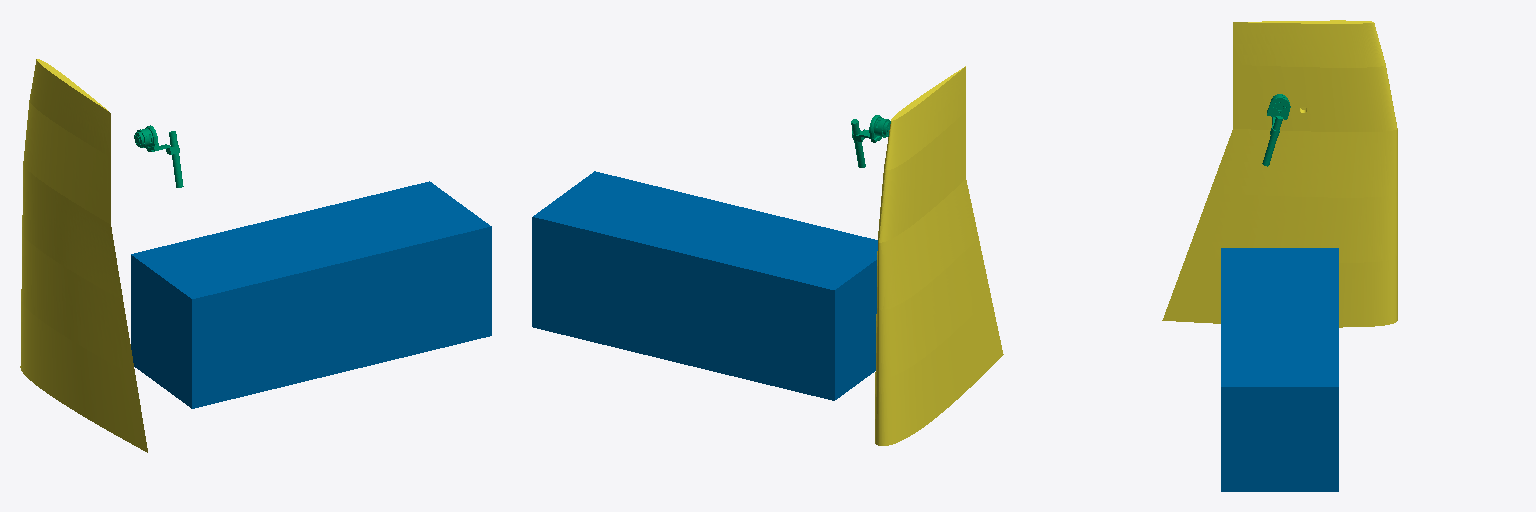
URDF robot description (panda):
<?xml version="1.0" ?>
<!-- =================================================================================== -->
<!-- |    This document was autogenerated by xacro from panda_arm.urdf.xacro           | -->
<!-- |    EDITING THIS FILE BY HAND IS NOT RECOMMENDED                                 | -->
<!-- =================================================================================== -->
<robot name="panda">
  <!--: Minimum safety distance [m] by which the collision volumes are expanded and which is enforced during robot motions -->
  <!-- arm_id: Namespace of the panda arm. Serves to differentiate between arms in case of multiple instances. -->
  <!--  <xacro:include filename="$(find franka_description)/robots/panda_arm.xacro" />-->
  <!--<xacro:include filename="$(find franka_description)/robots/hand.urdf.xacro" />-->
  <!-- fix the robot to the Gazebo world coordinate system  -->
  <link name="world"/>
  <joint name="robot_to_world" type="fixed">
    <parent link="world"/>
    <child link="panda_link0"/>
    <origin rpy="0.0 0.0 3.1415926" xyz="-1.0 0 0.5"/>
    <dynamics damping="1.0"/>
  </joint>
  <!-- link/joint 0 -->
  <link name="panda_link0">
    <inertial>
      <mass value="1.937868"/>
      <origin rpy="0 0 0" xyz="-0.025566 -2.88e-05 0.057332"/>
      <inertia ixx="1" ixy="0" ixz="0" iyy="1" iyz="0" izz="1"/>
    </inertial>
    <visual>
      <origin rpy="0 0 0" xyz="0 0 0"/>
      <geometry>
        <mesh filename="package://franka_description/meshes/visual/link0.dae"/>
      </geometry>
      <material name="">
        <color rgba="1 1 1 1"/>
      </material>
    </visual>
  </link>
  <!-- link/joint 1 -->
  <link name="panda_link1">
    <inertial>
      <origin rpy="0 0 0" xyz="3.875e-03 2.081e-03 -0.1750"/>
      <mass value="4.970684"/>
      <inertia ixx="0.551121276649726" ixy="-9.891702555950000e-05" ixz="0.003401254912500" iyy="0.554308164573063" iyz="0.017358801154300" izz="0.009020836222789"/>
    </inertial>
    <visual>
      <origin rpy="0 0 0" xyz="0 0 0"/>
      <geometry>
        <mesh filename="package://franka_description/meshes/visual/link1.dae"/>
      </geometry>
      <material name="">
        <color rgba="1 1 1 1"/>
      </material>
    </visual>
  </link>
  <joint name="panda_joint1" type="revolute">
    <safety_controller k_position="100.0" k_velocity="40.0" soft_lower_limit="-2.8973" soft_upper_limit="2.8973"/>
    <origin rpy="0 0 0" xyz="0 0 0.333"/>
    <parent link="panda_link0"/>
    <child link="panda_link1"/>
    <axis xyz="0 0 1"/>
    <limit effort="87" lower="-2.8973" upper="2.8973" velocity="2.1750"/>
    <dynamics damping="1.0"/>
  </joint>
  <!-- link/joint 2 -->
  <link name="panda_link2">
    <inertial>
      <origin rpy="0 0 0" xyz="-3.141e-03 -2.872e-02 3.495e-03"/>
      <mass value="0.646926"/>
      <inertia ixx="0.007420488375978" ixy="-0.003866641116064" ixz="0.010246898178992" iyy="0.028095715287805" iyz="6.390638970536000e-04" izz="0.025455008098310"/>
    </inertial>
    <visual>
      <origin rpy="0 0 0" xyz="0 0 0"/>
      <geometry>
        <mesh filename="package://franka_description/meshes/visual/link2.dae"/>
      </geometry>
      <material name="">
        <color rgba="1 1 1 1"/>
      </material>
    </visual>
  </link>
  <joint name="panda_joint2" type="revolute">
    <safety_controller k_position="100.0" k_velocity="40.0" soft_lower_limit="-1.7628" soft_upper_limit="1.7628"/>
    <origin rpy="-1.5707963267948966 0 0" xyz="0 0 0"/>
    <parent link="panda_link1"/>
    <child link="panda_link2"/>
    <axis xyz="0 0 1"/>
    <limit effort="87" lower="-1.7628" upper="1.7628" velocity="2.1750"/>
    <dynamics damping="1.0"/>
  </joint>
  <!-- link/joint 3 -->
  <link name="panda_link3">
    <inertial>
      <origin rpy="0 0 0" xyz="2.7518e-02 3.9252e-02 -6.6502e-02"/>
      <mass value="3.228604"/>
      <inertia ixx="0.017989073985929" ixy="-0.001273666859324" ixz="-0.017304351893438" iyy="0.019431618000394" iyz="-0.021232742878160" izz="0.003410797707480"/>
    </inertial>
    <visual>
      <origin rpy="0 0 0" xyz="0 0 0"/>
      <geometry>
        <mesh filename="package://franka_description/meshes/visual/link3.dae"/>
      </geometry>
      <material name="">
        <color rgba="1 1 1 1"/>
      </material>
    </visual>
  </link>
  <joint name="panda_joint3" type="revolute">
    <safety_controller k_position="100.0" k_velocity="40.0" soft_lower_limit="-2.8973" soft_upper_limit="2.8973"/>
    <origin rpy="1.5707963267948966 0 0" xyz="0 -0.316 0"/>
    <parent link="panda_link2"/>
    <child link="panda_link3"/>
    <axis xyz="0 0 1"/>
    <limit effort="87" lower="-2.8973" upper="2.8973" velocity="2.1750"/>
    <dynamics damping="1.0"/>
  </joint>
  <!-- link/joint 4 -->
  <link name="panda_link4">
    <inertial>
      <origin rpy="0 0 0" xyz="-5.317e-02 1.04419e-01 2.7454e-02"/>
      <mass value="3.587895"/>
      <inertia ixx="-0.015971270250860" ixy="-0.012123843173626" ixz="-0.006569355026276" iyy="0.006704569575549" iyz="0.018926487577369" izz="-0.020940149052540"/>
    </inertial>
    <visual>
      <origin rpy="0 0 0" xyz="0 0 0"/>
      <geometry>
        <mesh filename="package://franka_description/meshes/visual/link4.dae"/>
      </geometry>
      <material name="">
        <color rgba="1 1 1 1"/>
      </material>
    </visual>
  </link>
  <joint name="panda_joint4" type="revolute">
    <safety_controller k_position="100.0" k_velocity="40.0" soft_lower_limit="-3.0718" soft_upper_limit="-0.0698"/>
    <origin rpy="1.5707963267948966 0 0" xyz="0.0825 0 0"/>
    <parent link="panda_link3"/>
    <child link="panda_link4"/>
    <axis xyz="0 0 1"/>
    <limit effort="87" lower="-3.0718" upper="-0.0698" velocity="2.1750"/>
    <dynamics damping="1.0"/>
  </joint>
  <!-- link/joint 5 -->
  <link name="panda_link5">
    <inertial>
      <origin rpy="0 0 0" xyz="-1.1953e-02 4.1065e-02 -3.8437e-02"/>
      <mass value="1.225946"/>
      <inertia ixx="0.031670429041964" ixy="-0.002718755526673" ixz="-0.003473754482437" iyy="0.027487627674740" iyz="-0.001706052052098" izz="0.006384489237171"/>
    </inertial>
    <visual>
      <origin rpy="0 0 0" xyz="0 0 0"/>
      <geometry>
        <mesh filename="package://franka_description/meshes/visual/link5.dae"/>
      </geometry>
      <material name="">
        <color rgba="1 1 1 1"/>
      </material>
    </visual>
  </link>
  <joint name="panda_joint5" type="revolute">
    <safety_controller k_position="100.0" k_velocity="40.0" soft_lower_limit="-2.8973" soft_upper_limit="2.8973"/>
    <origin rpy="-1.5707963267948966 0 0" xyz="-0.0825 0.384 0"/>
    <parent link="panda_link4"/>
    <child link="panda_link5"/>
    <axis xyz="0 0 1"/>
    <limit effort="12" lower="-2.8973" upper="2.8973" velocity="2.6100"/>
    <dynamics damping="1.0"/>
  </joint>
  <!-- link/joint 6 -->
  <link name="panda_link6">
    <inertial>
      <origin rpy="0 0 0" xyz="6.0149e-02 -1.4117e-02 -1.0517e-02"/>
      <mass value="1.666555"/>
      <inertia ixx="0.001447539641829" ixy="-0.001306110902883" ixz="-0.002212241082781" iyy="-0.001859766133107" iyz="5.884309026853950e-04" izz="-9.285602302389487e-04"/>
    </inertial>
    <visual>
      <origin rpy="0 0 0" xyz="0 0 0"/>
      <geometry>
        <mesh filename="package://franka_description/meshes/visual/link6.dae"/>
      </geometry>
      <material name="">
        <color rgba="1 1 1 1"/>
      </material>
    </visual>
  </link>
  <joint name="panda_joint6" type="revolute">
    <safety_controller k_position="100.0" k_velocity="40.0" soft_lower_limit="-0.0175" soft_upper_limit="3.7525"/>
    <origin rpy="1.5707963267948966 0 0" xyz="0 0 0"/>
    <parent link="panda_link5"/>
    <child link="panda_link6"/>
    <axis xyz="0 0 1"/>
    <limit effort="12" lower="-0.0175" upper="3.7525" velocity="2.6100"/>
    <dynamics damping="1.0"/>
  </joint>
  <!-- link/joint 7 -->
  <link name="panda_link7">
    <inertial>
      <origin rpy="0 0 0" xyz="1.0517e-02 -4.252e-03 6.1597e-02"/>
      <mass value="7.35522e-01"/>
      <inertia ixx="0.009711991609050" ixy="-4.608912816842480e-04" ixz="-7.195173382162220e-04" iyy="0.007154935387572" iyz="-9.336408935917680e-04" izz="0.004720348032639"/>
    </inertial>
    <visual>
      <origin rpy="0 0 0" xyz="0 0 0"/>
      <geometry>
        <mesh filename="package://franka_description/meshes/visual/link7.dae"/>
      </geometry>
      <material name="">
        <color rgba="1 1 1 1"/>
      </material>
    </visual>
  </link>
  <joint name="panda_joint7" type="revolute">
    <safety_controller k_position="100.0" k_velocity="40.0" soft_lower_limit="-2.8973" soft_upper_limit="2.8973"/>
    <origin rpy="1.5707963267948966 -0.7853981633974483 0" xyz="0.088 0 0"/>
    <parent link="panda_link6"/>
    <child link="panda_link7"/>
    <axis xyz="0 0 1"/>
    <limit effort="12" lower="-2.8973" upper="2.8973" velocity="2.6100"/>
    <dynamics damping="1.0"/>
  </joint>
  <!-- link/joint 8 -->
  <link name="panda_link8"/>
  <joint name="panda_joint8" type="fixed">
    <origin rpy="0 0 0" xyz="0 0 0.107"/>
    <parent link="panda_link7"/>
    <child link="panda_link8"/>
    <axis xyz="0 0 0"/>
  </joint>
  <joint name="panda_hand_joint" type="fixed">
    <parent link="panda_link8"/>
    <child link="panda_hand"/>
    <origin rpy="0 0 -1.5707963267948966" xyz="0 0 0"/>
  </joint>
  <link name="panda_hand">
    <visual>
      <geometry>
        <mesh filename="package://franka_description/meshes/visual/end_effector.dae" scale="0.001 0.001 0.001"/>
      </geometry>
    </visual>
    <inertial>
      <!-- <origin rpy="0 0 0" xyz="0.035 -0.020378 0.078141"/> -->
      <origin rpy="0 0 0" xyz="0.04688 0 0.078141"/>
      <mass value="1.128214"/>
      <!-- <inertia ixx="0.005319" ixy="0.001795" ixz="-0.00275" iyy="0.007390" iyz="0.001588" izz="0.004869"/> -->
      <inertia ixx="0.004282" ixy="0" ixz="-0.003176" iyy="0.008427" iyz="0" izz="0.004869"/>
    </inertial>
  </link>
  <joint name="wing_fixed" type="fixed">
    <parent link="world"/>
    <child link="my_wing"/>
  </joint>
  <link name="my_wing">
    <inertial>
      <origin xyz="-1.6 0 0"/>
      <mass value="1.0"/>
      <inertia ixx="1.0" ixy="0.0" ixz="0.0" iyy="1.0" iyz="0.0" izz="1.0"/>
    </inertial>
    <visual>
      <origin rpy="1.5708 -0 3.14159" xyz="-1.6 0 0"/>
      <geometry>
        <mesh filename="package://franka_description/models/wingprofile.dae" scale="0.01 0.01 0.01"/>
      </geometry>
    </visual>
  </link>
  <joint name="box_fixed" type="fixed">
    <origin xyz="-0.55 0 0.26"/>
    <parent link="world"/>
    <child link="my_box"/>
  </joint>
  <link name="my_box">
    <inertial>
      <origin xyz="0 0 0"/>
      <mass value="1.0"/>
      <inertia ixx="1.0" ixy="0.0" ixz="0.0" iyy="1.0" iyz="0.0" izz="1.0"/>
    </inertial>
    <visual>
      <geometry>
        <box size="1.4 0.5 0.49"/>
      </geometry>
    </visual>
  </link>
</robot>

--- Render facts (derived) ---
3 views of the same robot in one strip: view 1: azimuth 30°, elevation 25°; view 2: azimuth 150°, elevation 25°; view 3: azimuth 270°, elevation 25° (orthographic).
Robot: panda — 13 links, 12 joints (7 revolute, 5 fixed); root link world; default pose: joints at zero except 1 at the middle of their limits (panda_joint4 = -1.57).
Visible links, largest first — view 1: my_box, my_wing, panda_hand; view 2: my_box, my_wing, panda_hand; view 3: my_wing, my_box, panda_hand.
Boxes of the visible links, bbox=[...] form: my_box: bbox=[131, 181, 491, 408]; my_wing: bbox=[20, 59, 147, 452]; panda_hand: bbox=[134, 125, 183, 187]; my_box: bbox=[532, 171, 877, 400]; my_wing: bbox=[875, 66, 1003, 445]; panda_hand: bbox=[851, 115, 890, 167]; my_wing: bbox=[1162, 20, 1397, 327]; my_box: bbox=[1221, 248, 1338, 491]; panda_hand: bbox=[1262, 94, 1290, 166].
Size in the robot's own frame: 1.82 by 1 by 1.4 metres.
2 mesh visuals loaded from 10 distinct referenced files (2 Collada DAE); not drawn: 8 (reference not matched to a file when rendering).